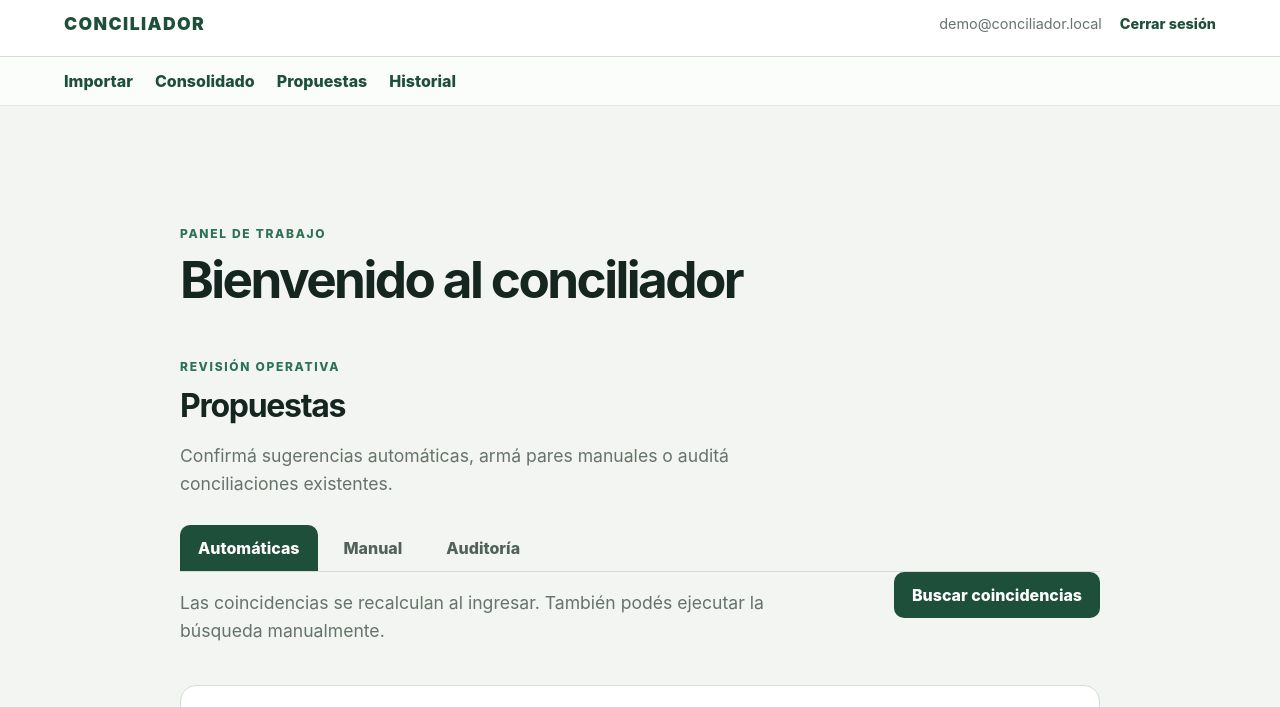
Test: proposal workspace › shows automatic movement and receipt side by side and confirms inline
Click the button "Buscar coincidencias". click: [997, 595]
box: [894,572,1100,618]
(page scrolled)
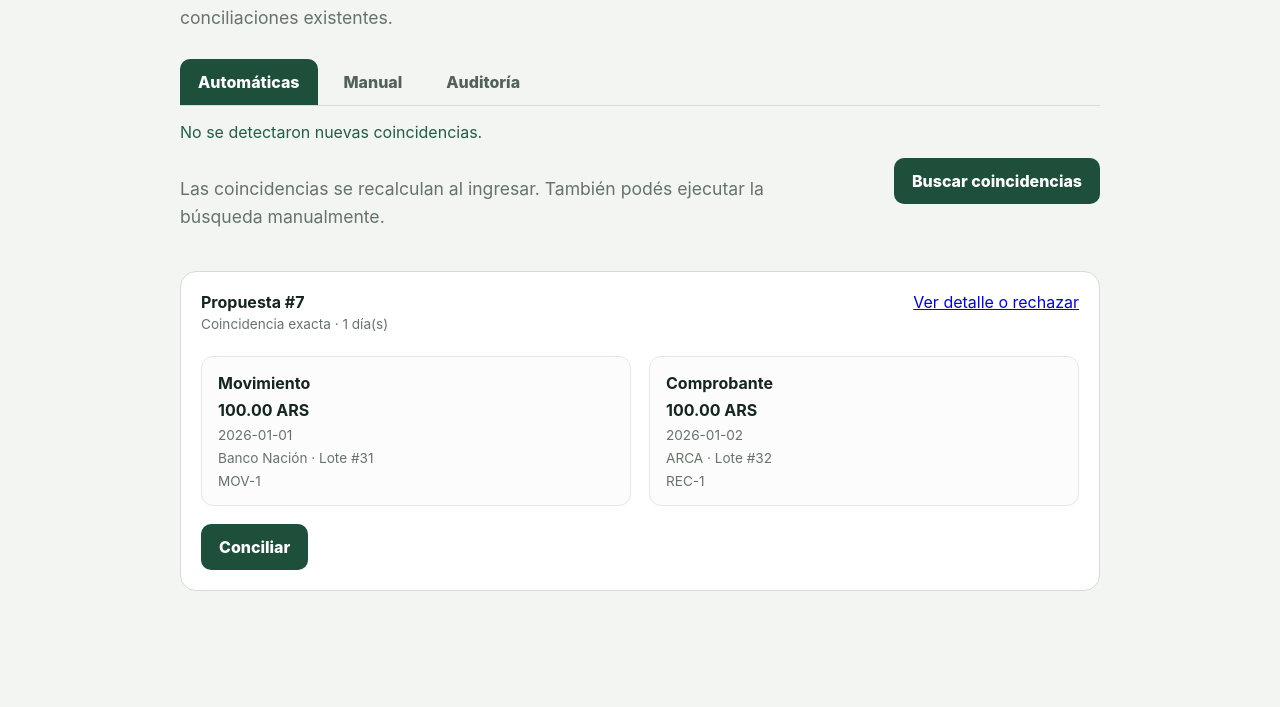
Now the text "No se detectaron nuevas coincidencias." is shown, box [180,122,482,142]
Click the button "Conciliar". click: [255, 547]
box: [201,524,308,570]
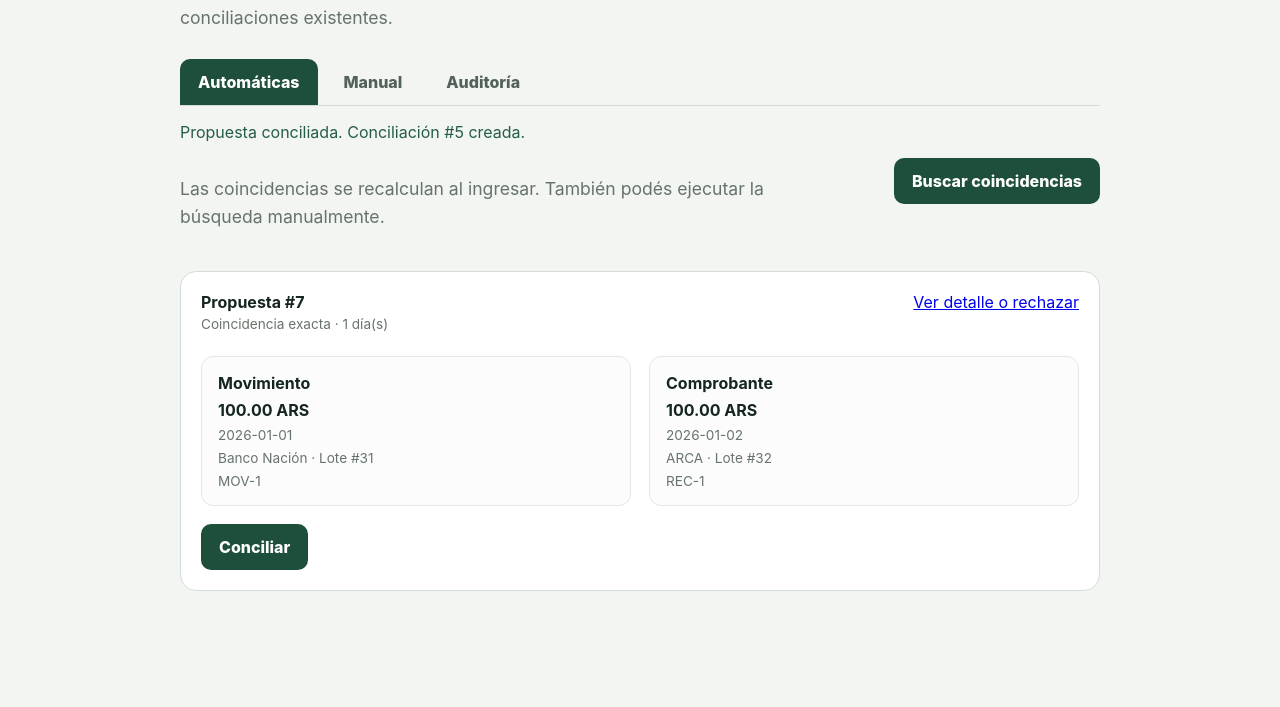
Now the text "Propuesta conciliada. Conciliación #5 creada." is shown, box [180,122,525,142]
